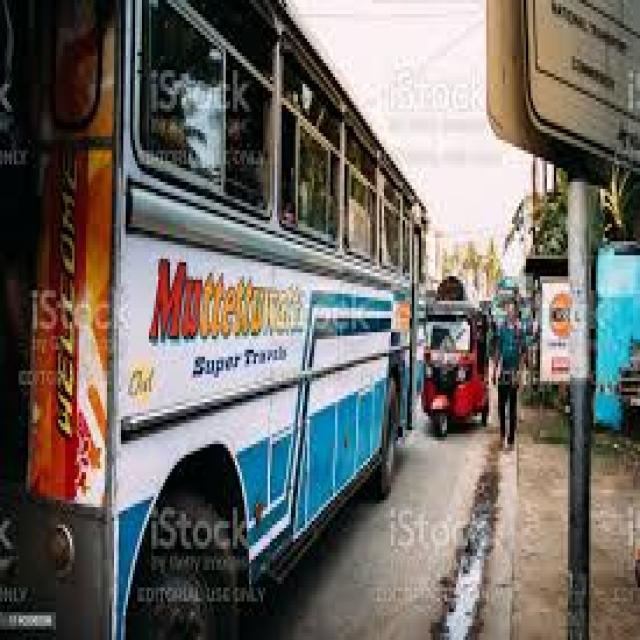bus: (51, 0, 424, 637)
person: (498, 304, 519, 448)
three wheeler: (424, 301, 484, 437)
